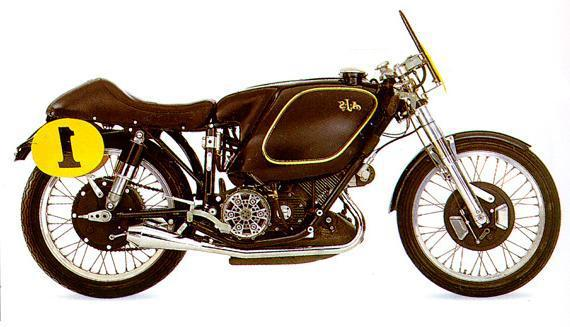motorcycle: (12, 2, 566, 310)
